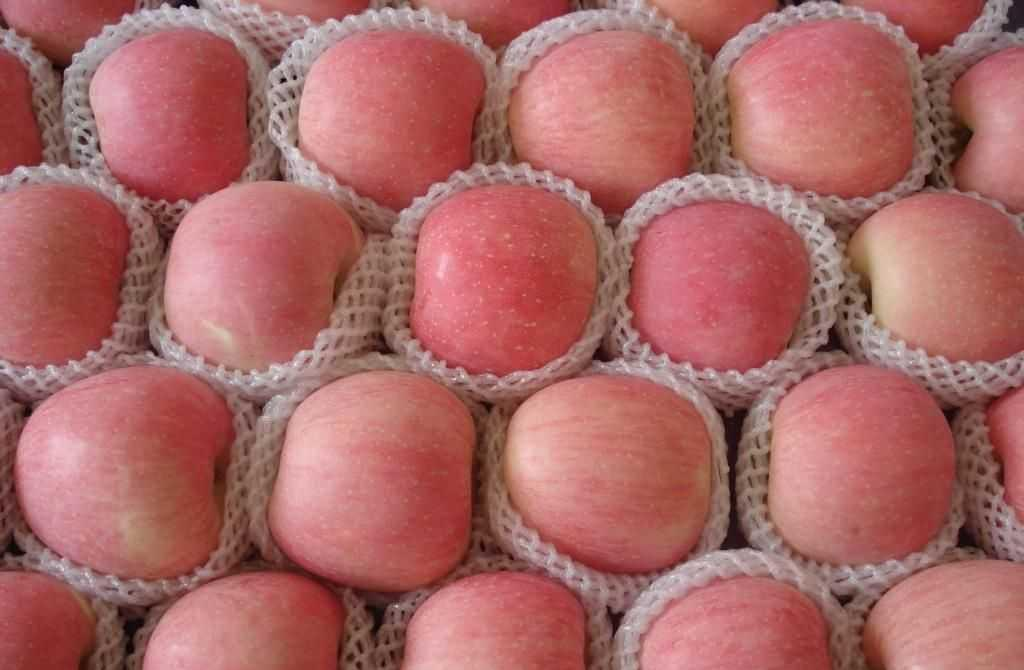apple: (266, 370, 473, 598), (158, 185, 373, 395), (17, 368, 230, 568), (504, 377, 706, 561), (772, 368, 947, 554), (732, 23, 911, 198), (512, 30, 691, 196), (414, 191, 593, 357), (630, 197, 809, 363), (294, 26, 473, 191), (851, 192, 1022, 358), (92, 30, 244, 186), (3, 187, 126, 357), (134, 570, 344, 667), (394, 572, 586, 670)
